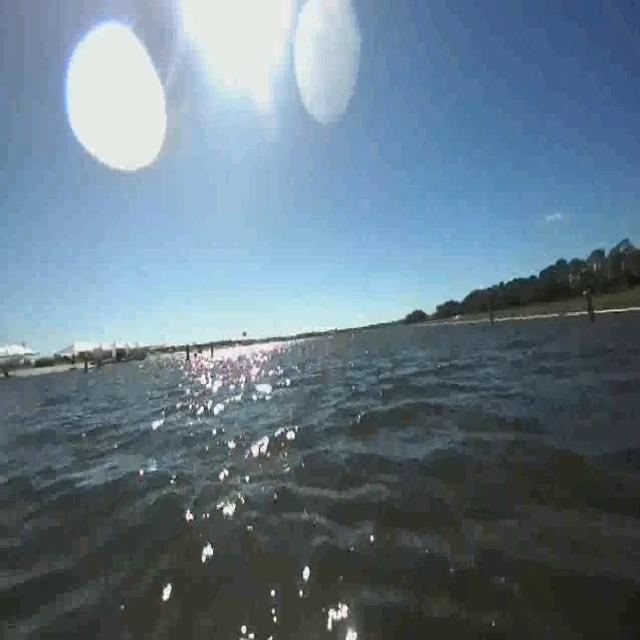yellow-buoy: (57, 15, 174, 176)
